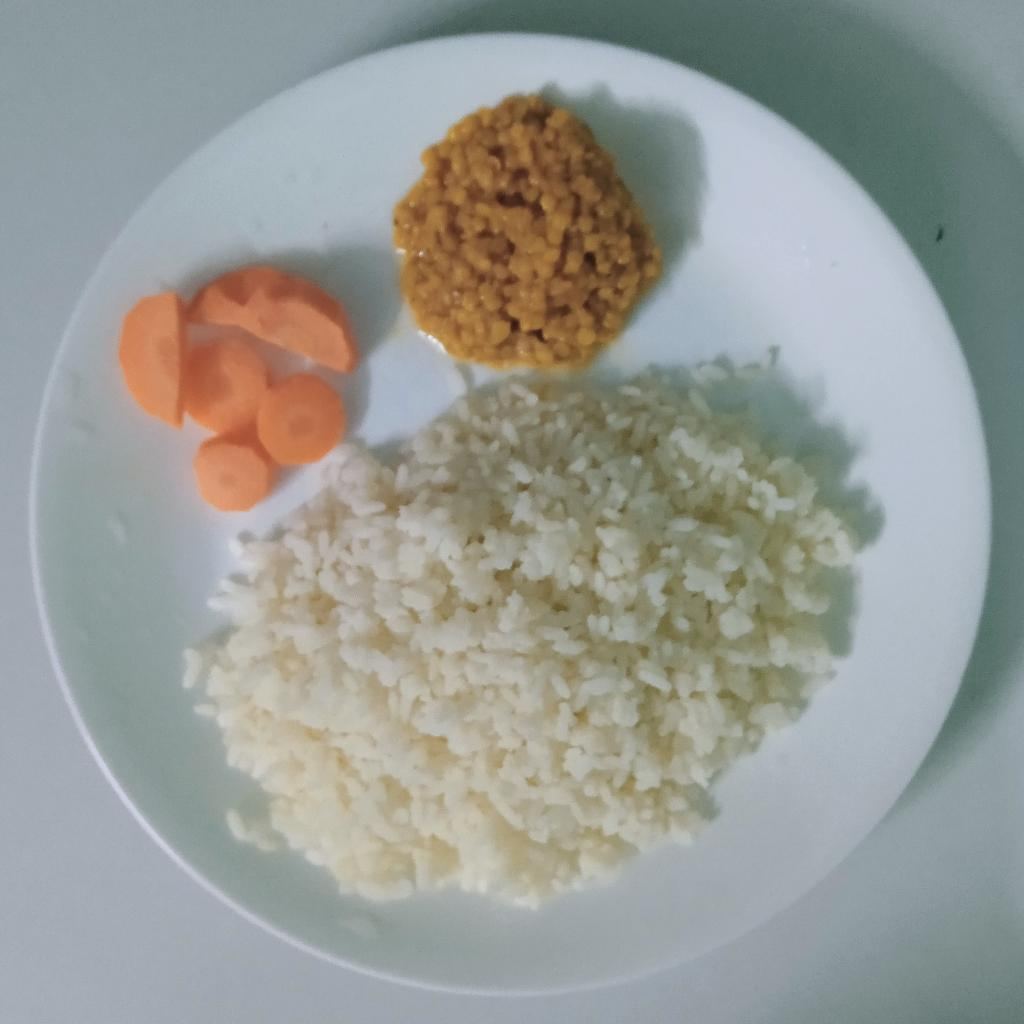carrot: (120, 263, 360, 510)
daal: (388, 97, 657, 368)
rice: (182, 376, 865, 907)
